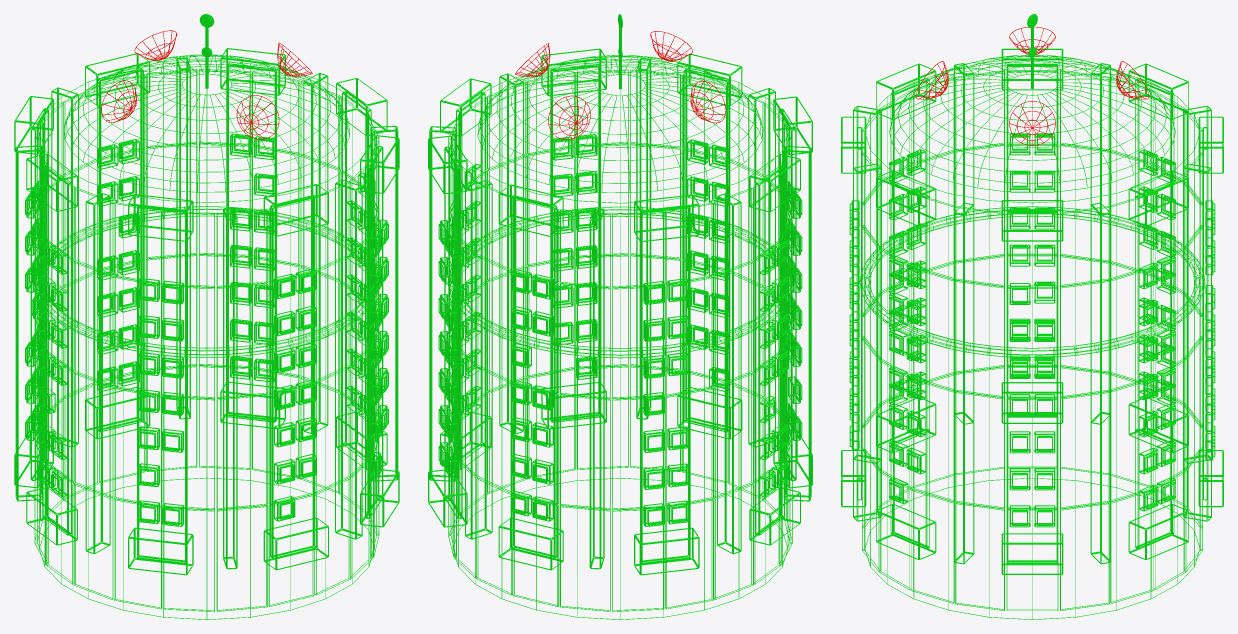
The model's file is repair-facility-highlight-four-data-dishes.glb.
3 views of the same model, side by side, from view 1: azimuth 30°, elevation 25°; view 2: azimuth 150°, elevation 25°; view 3: azimuth 270°, elevation 25° (orthographic).
Parts seen in each view (by area): view 1: chassis technical wire, droid-ports technical wire, four-data-dishes technical wire; view 2: chassis technical wire, droid-ports technical wire, four-data-dishes technical wire; view 3: chassis technical wire, droid-ports technical wire, four-data-dishes technical wire.
Part boxes in pixels (box(x1,y1,x2,y2)): chassis technical wire: box(14, 48, 399, 619); droid-ports technical wire: box(25, 133, 388, 526); four-data-dishes technical wire: box(101, 30, 312, 139); chassis technical wire: box(428, 48, 812, 619); droid-ports technical wire: box(438, 134, 802, 526); four-data-dishes technical wire: box(515, 31, 725, 139); chassis technical wire: box(841, 48, 1223, 619); droid-ports technical wire: box(849, 133, 1215, 527); four-data-dishes technical wire: box(915, 27, 1149, 145).
Bounding box in the file's own units: 1.87 × 2.89 × 1.87.
